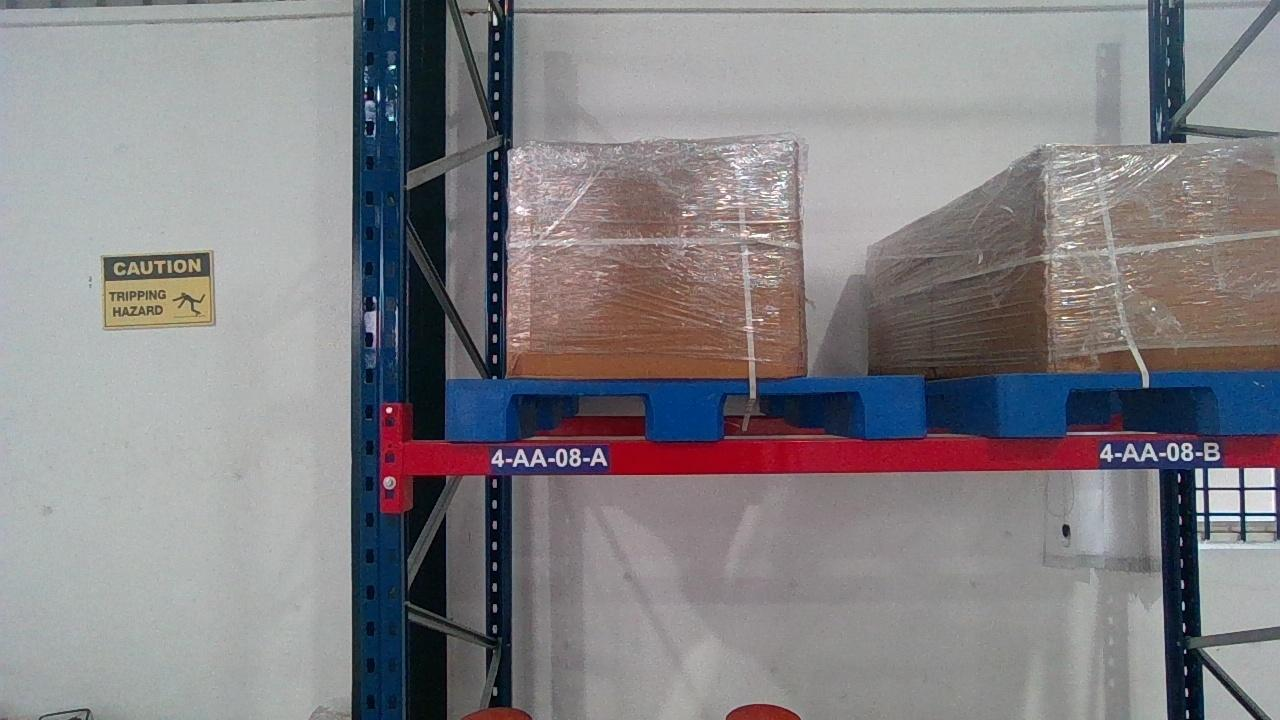h_rack: (405, 435, 1277, 473)
small_pallet: (444, 375, 928, 436), (999, 368, 1278, 432)
